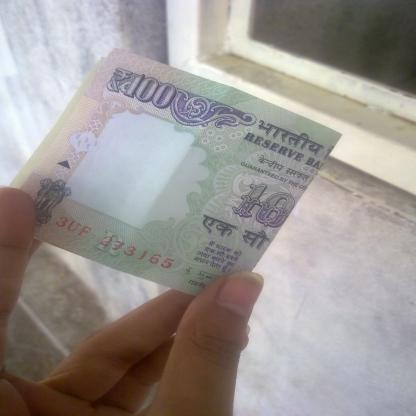Old100Front: (0, 47, 342, 297)
